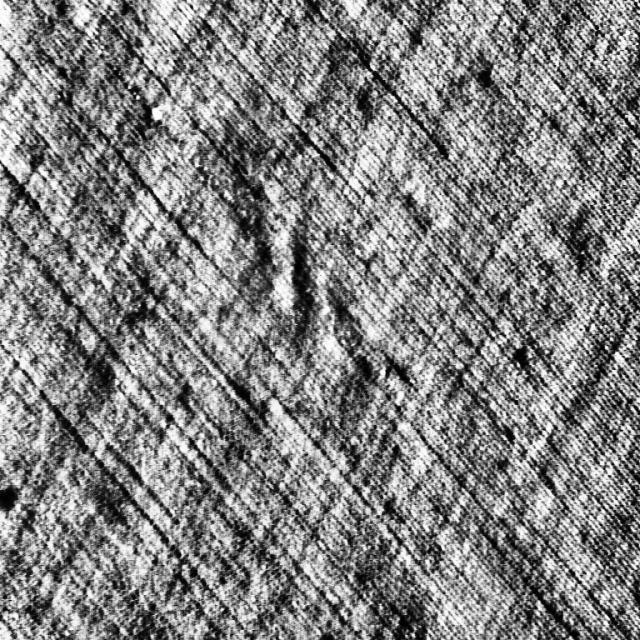Hole: (143, 97, 171, 136)
